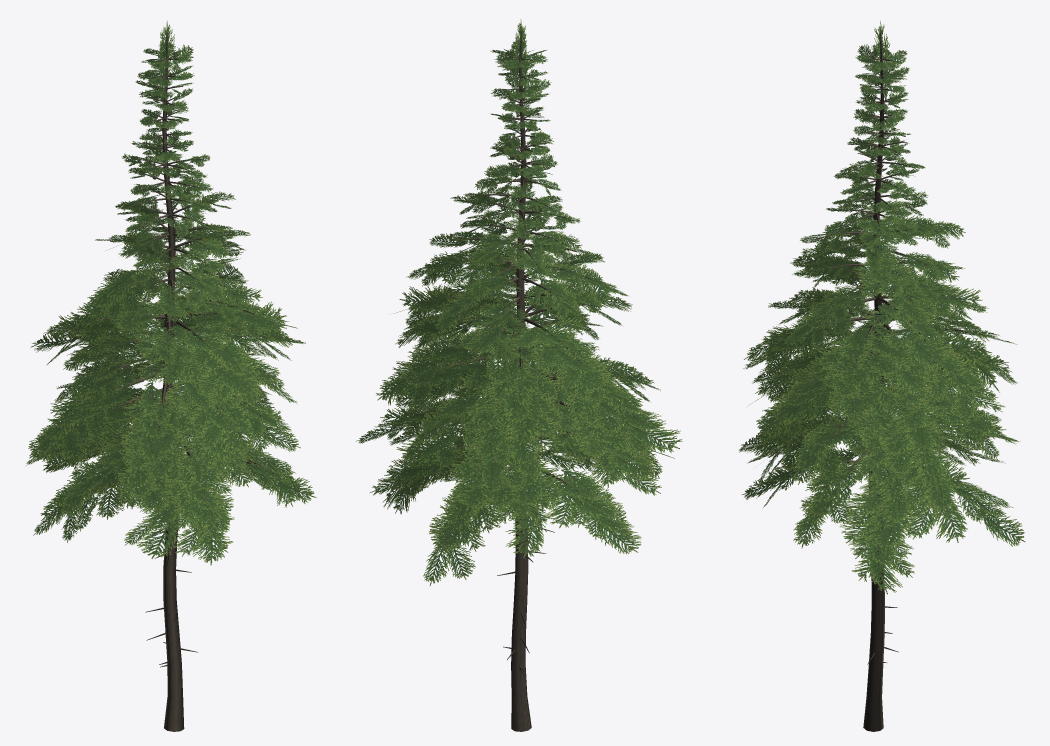
Rendered from near.glb.
3 views of the same model, side by side, from view 1: azimuth 30°, elevation 25°; view 2: azimuth 150°, elevation 25°; view 3: azimuth 270°, elevation 25° (orthographic).
Parts seen in each view (by area): view 1: spruce_01; view 2: spruce_01; view 3: spruce_01.
Boxes of the visible parts, box(x1,y1,x2,y2) form: spruce_01: box(26, 21, 316, 731); spruce_01: box(356, 19, 682, 731); spruce_01: box(739, 21, 1025, 731).
Bounding box in the file's own units: 7.08 × 16.35 × 6.51.
Materials: 2 (2 with a texture image).
